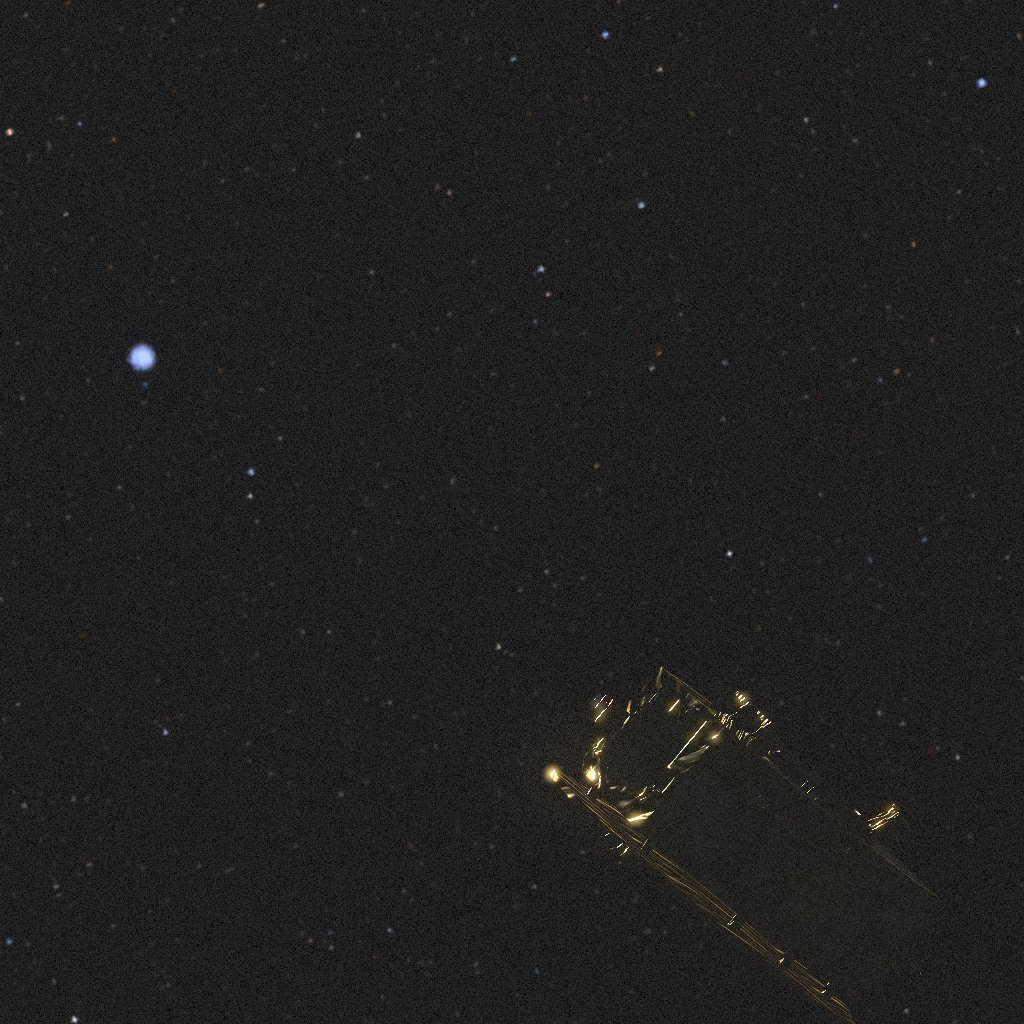lisa_pathfinder: (551, 665, 943, 1024)
